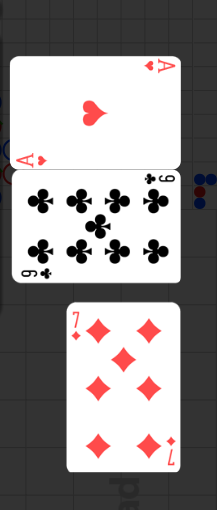7D: (164, 435, 177, 467)
9C: (142, 173, 176, 187)
AH: (141, 58, 176, 75)
